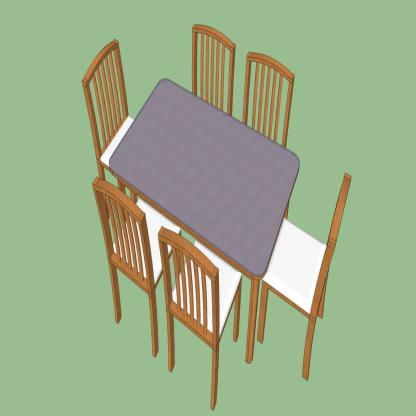Dining Table: (76, 20, 354, 416)
